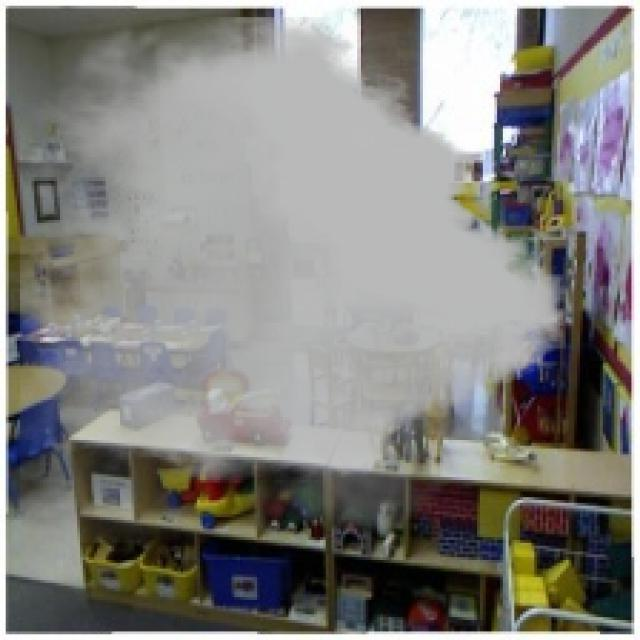smoke: (20, 8, 566, 543)
